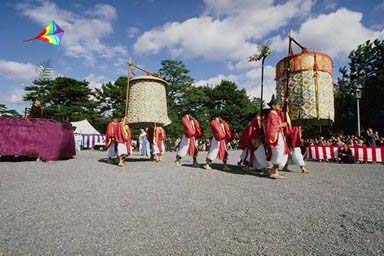copymove: (177, 110, 200, 162)
removal: (38, 112, 62, 162)
spliced: (22, 19, 66, 44)
